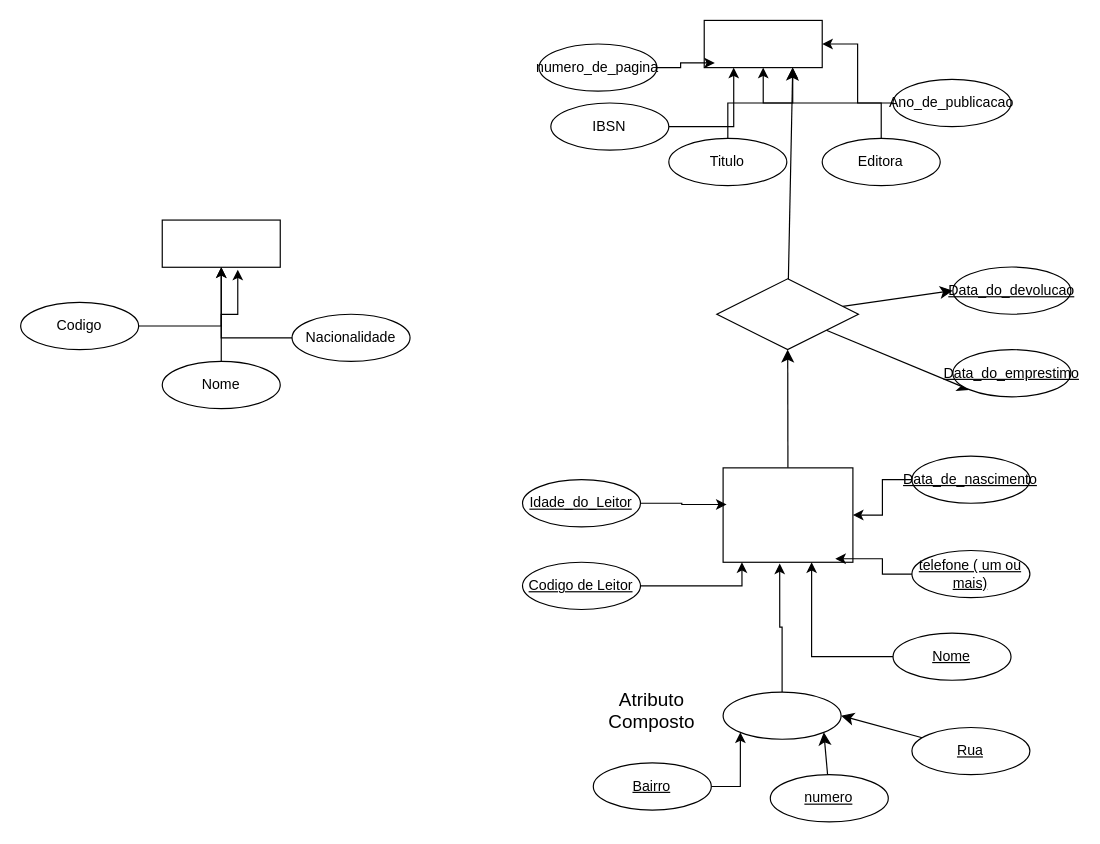
Image size: 1100x844. Some labels were removed from this diagram. The shapes that lost their labels are listed below. From the top down, each one's centre as x and y in pixels, then its label:
At point 762,43: "Livro".
At point 220,243: "Autores".
At point 787,314: "emprestado".
At point 787,514: "Leitor".
At point 781,715: "Endereço".
